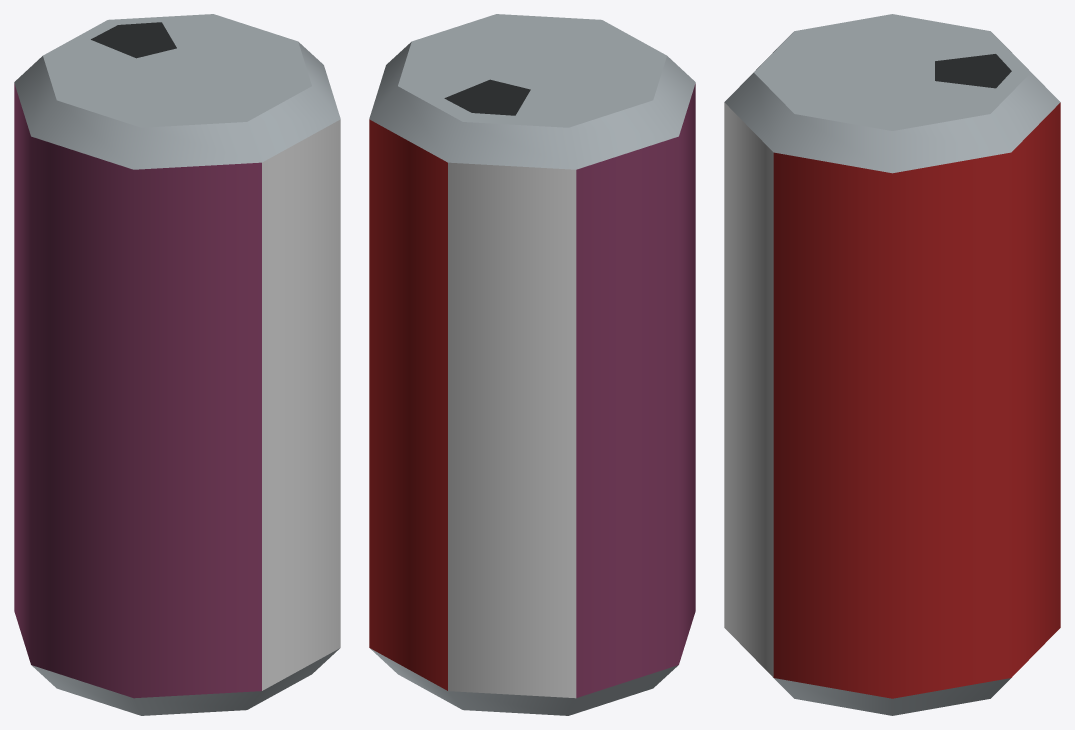
The model's file is clutter_soda3.fbx.
3 views of the same model, side by side, from view 1: azimuth 30°, elevation 25°; view 2: azimuth 150°, elevation 25°; view 3: azimuth 270°, elevation 25° (orthographic).
Parts seen in each view (by area): view 1: Cylinder03; view 2: Cylinder03; view 3: Cylinder03.
Part boxes in pixels (x1=…): Cylinder03: x1=14, y1=14, x2=340, y2=715; Cylinder03: x1=369, y1=14, x2=695, y2=715; Cylinder03: x1=724, y1=14, x2=1060, y2=715.
Size of the model in its own units: 176 by 176 by 338.
